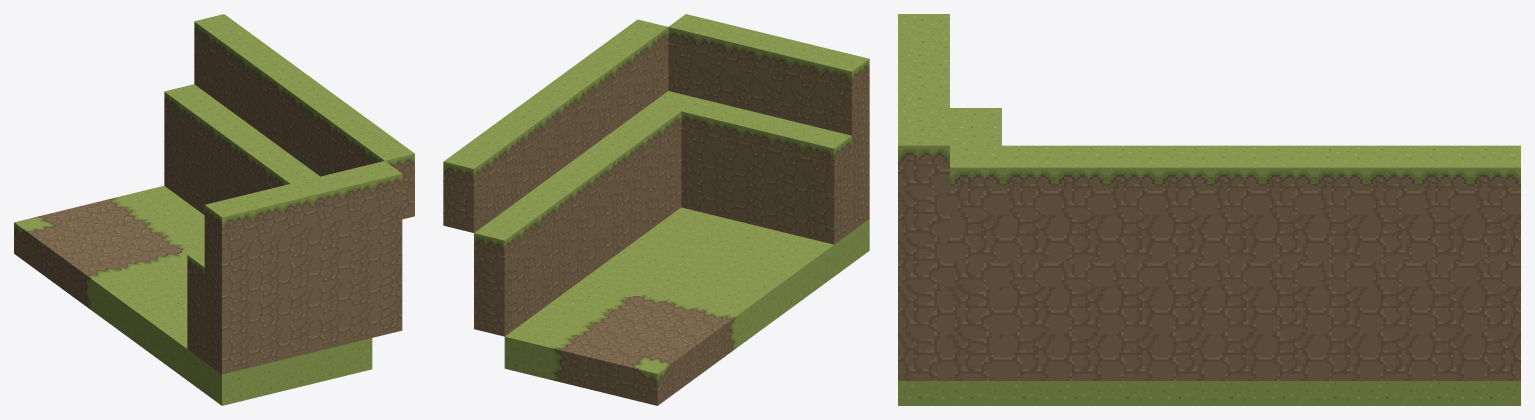
File: map1.21.vox.obj
The picture shows the model from 3 angles, left to right: view 1: azimuth 30°, elevation 25°; view 2: azimuth 150°, elevation 25°; view 3: azimuth 270°, elevation 25°; orthographic projection. The views are drawn at different scales.
Size of the model in its own units: 14 by 12 by 24.
1 material, 1 textured.
